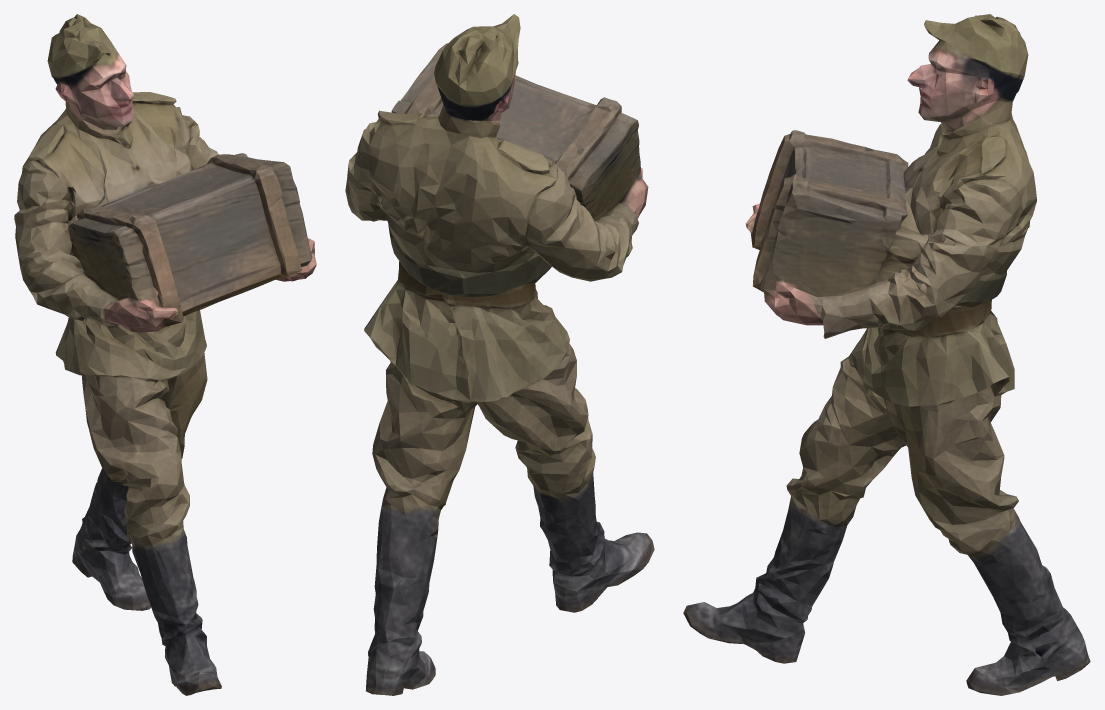
The model's file is walk_su_crate_b.obj.
3 renders of one model, left to right at view 1: azimuth 30°, elevation 25°; view 2: azimuth 150°, elevation 25°; view 3: azimuth 270°, elevation 25°, orthographic. The views are drawn at different scales.
Visible parts, largest first — view 1: walk_su_crate_b; view 2: walk_su_crate_b; view 3: walk_su_crate_b.
Part boxes in pixels (<box>): walk_su_crate_b: <box>14,14,316,695</box>; walk_su_crate_b: <box>345,14,654,695</box>; walk_su_crate_b: <box>683,14,1090,695</box>.
Bounding box in the file's own units: 0.7566 × 1.8 × 1.04.
Materials: 1 (1 with a texture image).
